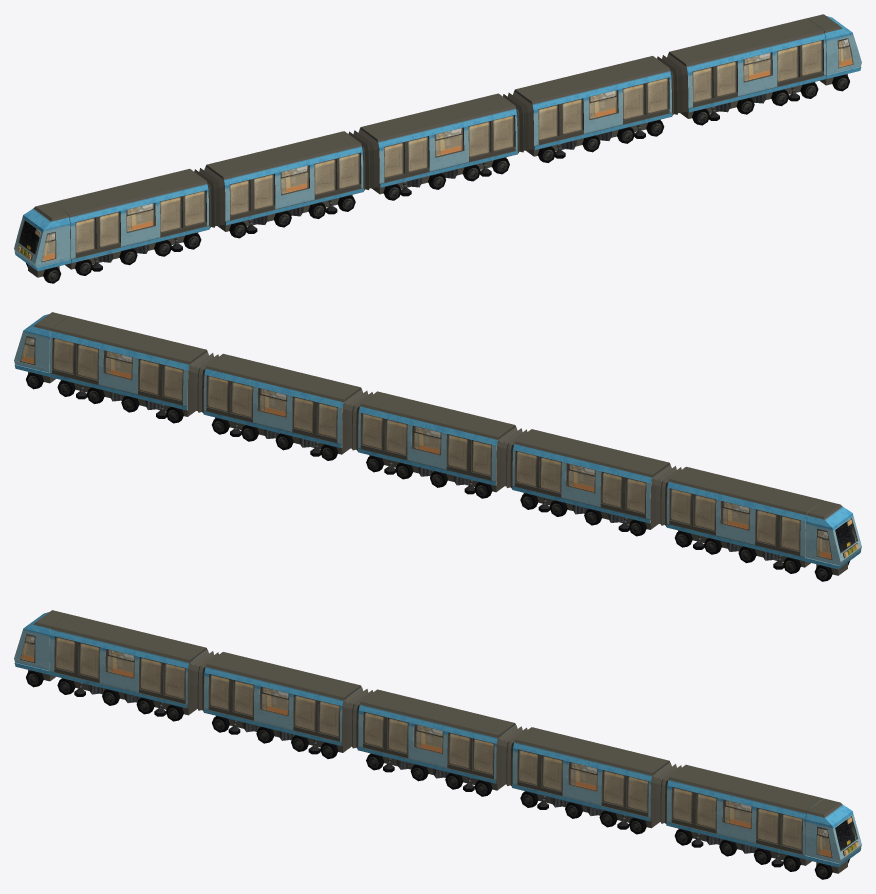
File: metro.fbx
3 views of the same model, one above another, from view 1: azimuth 30°, elevation 25°; view 2: azimuth 150°, elevation 25°; view 3: azimuth 330°, elevation 25° (orthographic).
Visible parts, largest first — view 1: Cube.008, Cube.017, Cube.007, Cube.019, Cube.018, Cube.034, Cube.001, Cube.013, Cube.002, Cube.012, Cube.025; view 2: Cube.007, Cube.008, Cube.017, Cube.019, Cube.018, Cube.034, Cube.001, Cube.012, Cube.013, Cube.002, Cube.025; view 3: Cube.008, Cube.018, Cube.017, Cube.007, Cube.019, Cube.001, Cube.034, Cube.012, Cube.002, Cube.013, Cube.025.
Part boxes in pixels (bbox=[...]): Cube.008: bbox=[360, 93, 517, 187]; Cube.017: bbox=[205, 131, 363, 225]; Cube.007: bbox=[514, 56, 672, 150]; Cube.019: bbox=[668, 18, 826, 112]; Cube.018: bbox=[52, 169, 209, 263]; Cube.034: bbox=[14, 202, 71, 271]; Cube.001: bbox=[807, 14, 861, 78]; Cube.013: bbox=[194, 166, 225, 228]; Cube.002: bbox=[503, 91, 533, 153]; Cube.012: bbox=[348, 129, 379, 190]; Cube.025: bbox=[657, 54, 687, 115]; Cube.007: bbox=[203, 353, 361, 448]; Cube.008: bbox=[358, 391, 515, 485]; Cube.017: bbox=[512, 429, 670, 523]; Cube.019: bbox=[49, 316, 207, 410]; Cube.018: bbox=[666, 466, 823, 561]; Cube.034: bbox=[804, 500, 861, 569]; Cube.001: bbox=[14, 312, 68, 376]; Cube.012: bbox=[496, 427, 527, 488]; Cube.013: bbox=[650, 464, 681, 526]; Cube.002: bbox=[342, 389, 372, 451]; Cube.025: bbox=[188, 351, 218, 413]; Cube.008: bbox=[357, 689, 515, 783]; Cube.018: bbox=[49, 614, 207, 708]; Cube.017: bbox=[203, 652, 361, 746]; Cube.007: bbox=[512, 727, 670, 821]; Cube.019: bbox=[666, 764, 823, 859]; Cube.001: bbox=[804, 798, 861, 867]; Cube.034: bbox=[14, 610, 68, 674]; Cube.012: bbox=[342, 687, 372, 748]; Cube.002: bbox=[496, 725, 527, 786]; Cube.013: bbox=[188, 649, 218, 711]; Cube.025: bbox=[651, 763, 681, 823].
Size of the model in its own units: 4689 by 345 by 222.
Materials: 6 (6 with a texture image).
